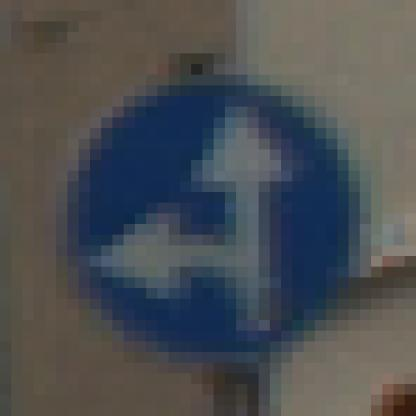Straight or Left: (57, 65, 361, 364)
